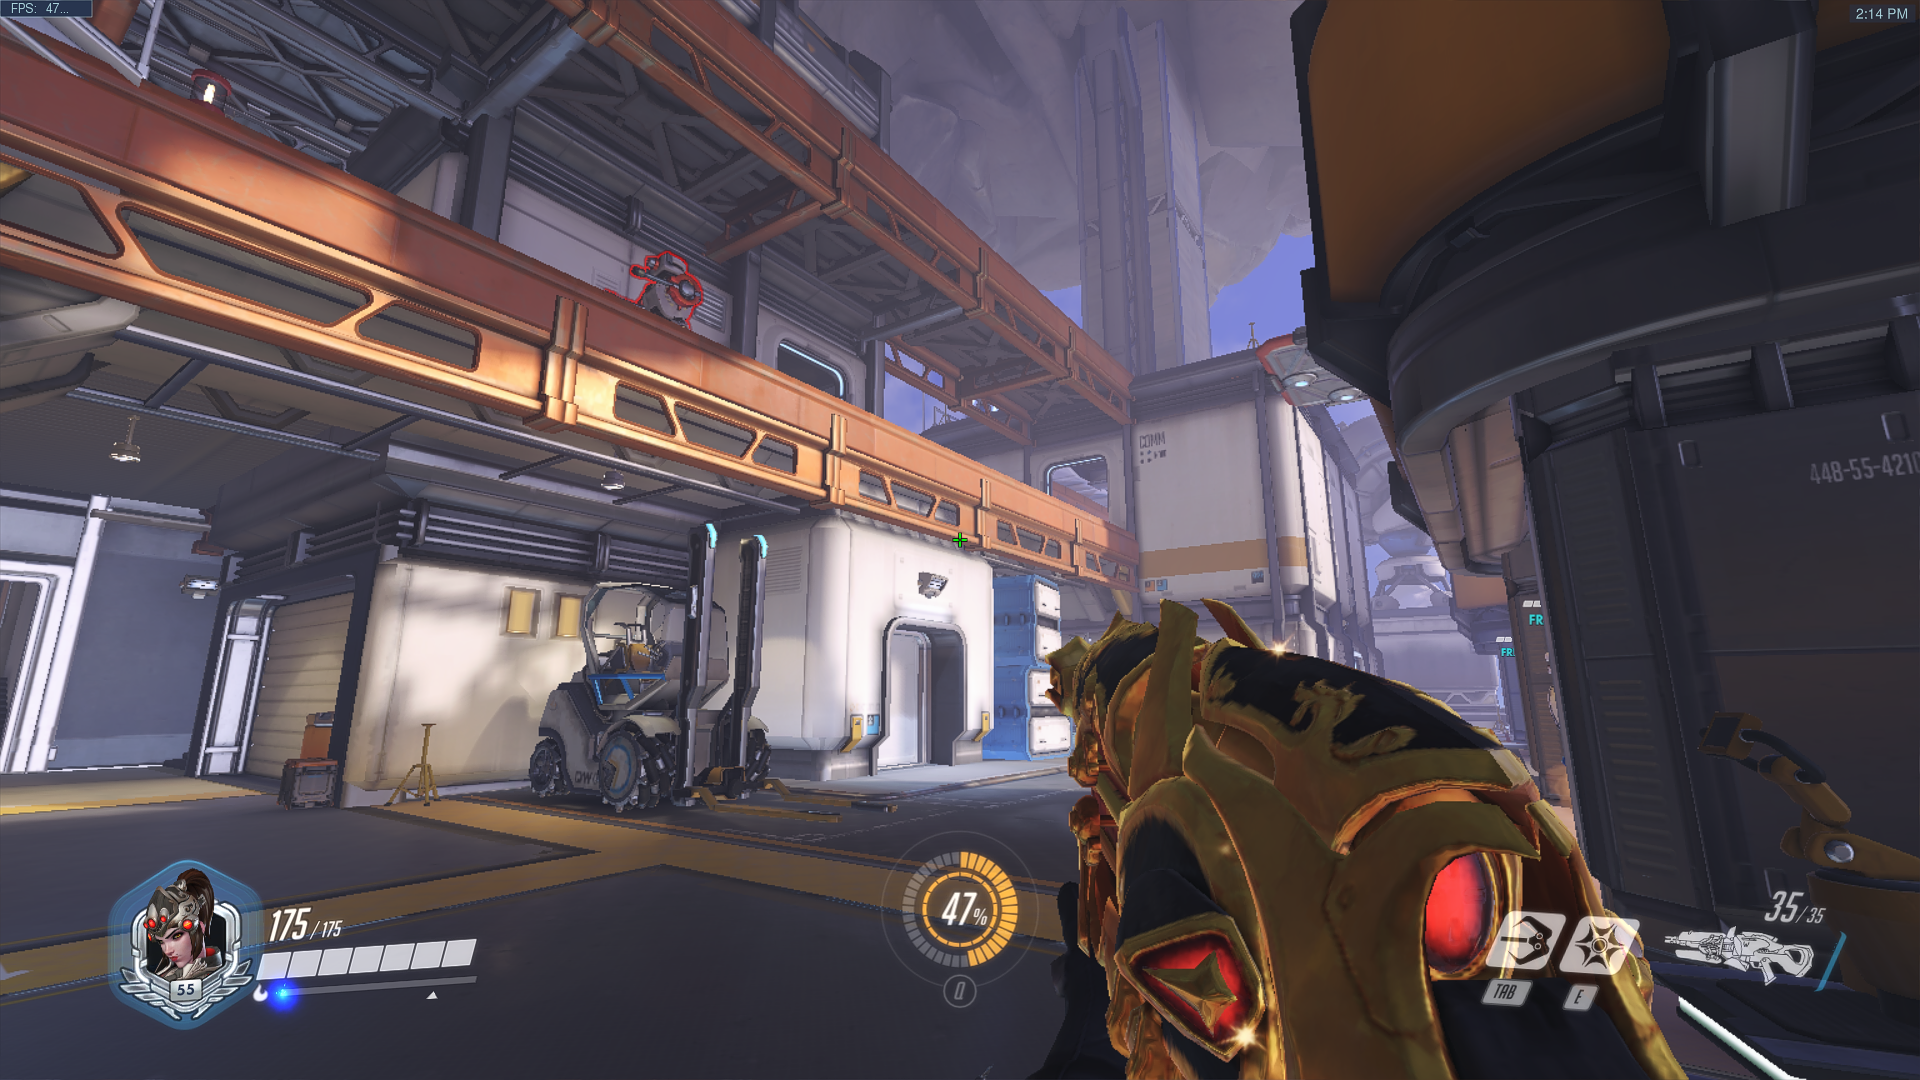head: (632, 245, 682, 280)
